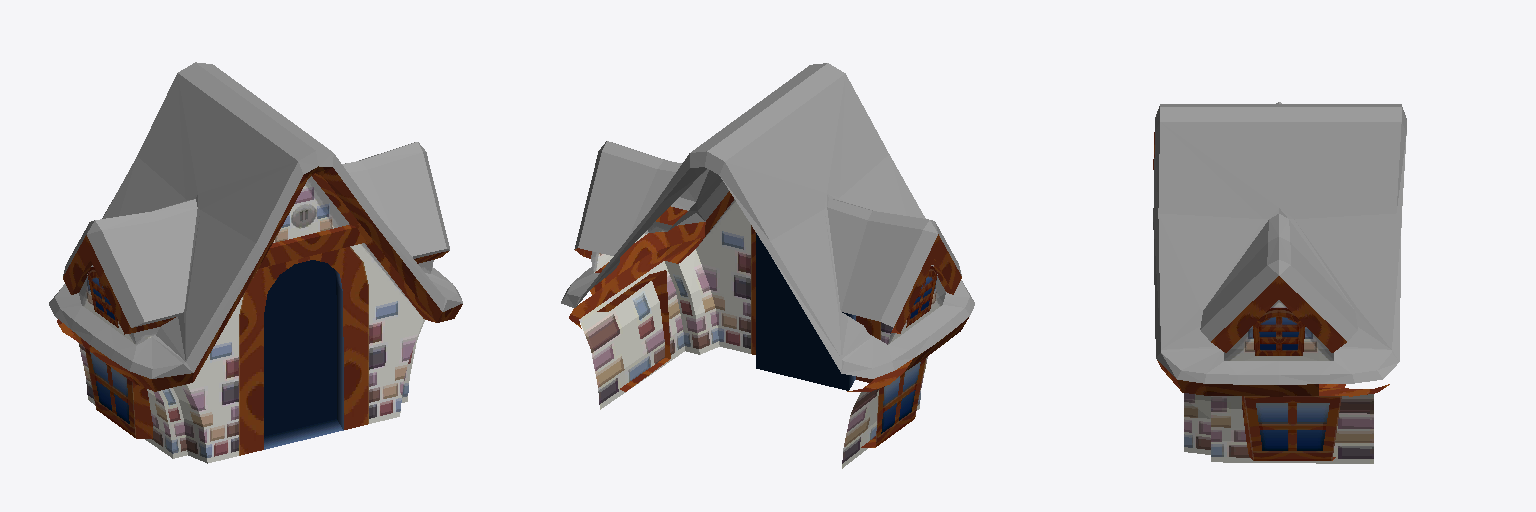
3 renders of one model, left to right at view 1: azimuth 30°, elevation 25°; view 2: azimuth 150°, elevation 25°; view 3: azimuth 270°, elevation 25°, orthographic.
Parts seen in each view (by area): view 1: vsn_mesh_0__mesh_0_.004, vsn_mesh_1__mesh_1_.004; view 2: vsn_mesh_1__mesh_1_.004, vsn_mesh_0__mesh_0_.004; view 3: vsn_mesh_1__mesh_1_.004, vsn_mesh_0__mesh_0_.004.
Part boxes in pixels (x1,y1,x2,y2): vsn_mesh_0__mesh_0_.004: (57,166,462,463); vsn_mesh_1__mesh_1_.004: (49,62,462,378); vsn_mesh_1__mesh_1_.004: (561,63,974,378); vsn_mesh_0__mesh_0_.004: (569,191,968,468); vsn_mesh_1__mesh_1_.004: (1153,102,1406,384); vsn_mesh_0__mesh_0_.004: (1153,132,1389,463).
Size of the model in its own units: 1.15 by 0.9675 by 0.745.
2 materials, 1 textured.